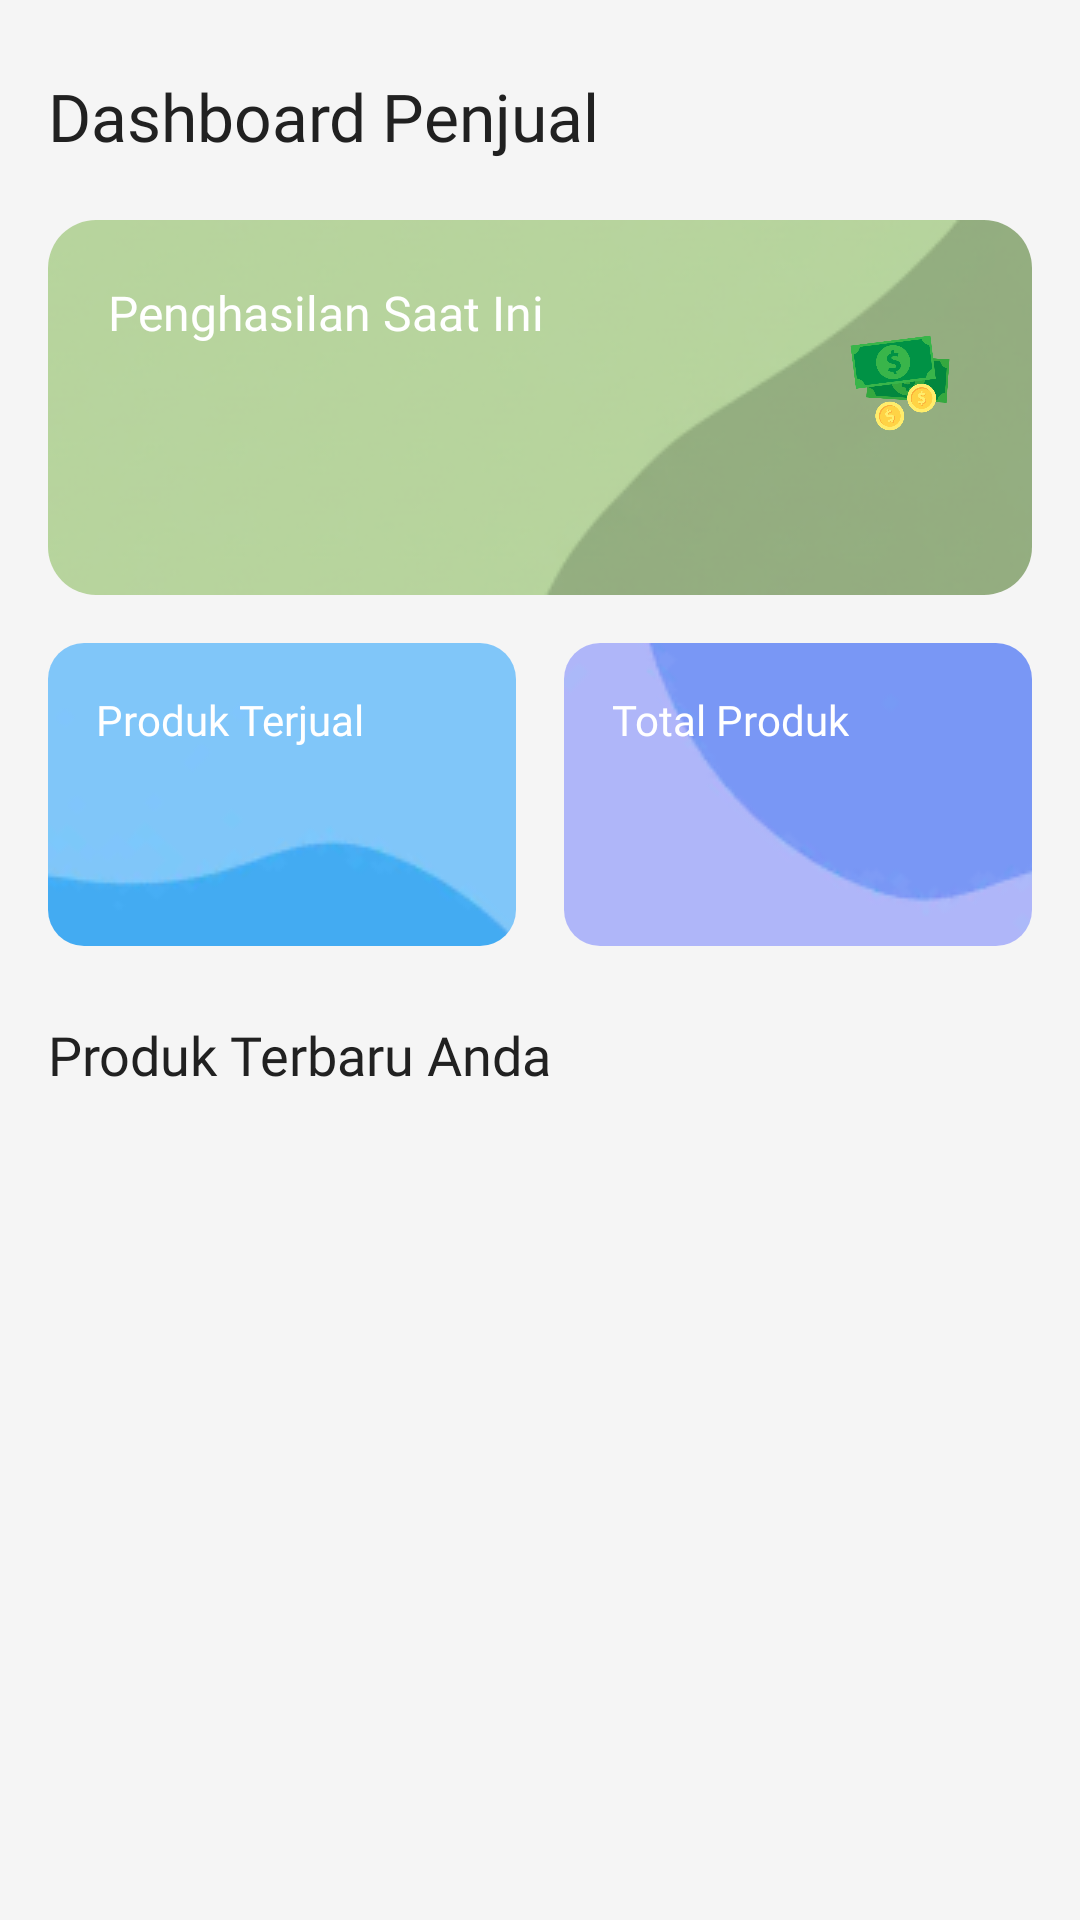

Point at icon controls on the screen. Image size 1080 × 1920, points as point (x, y).
woithdraw: point (900, 383)
